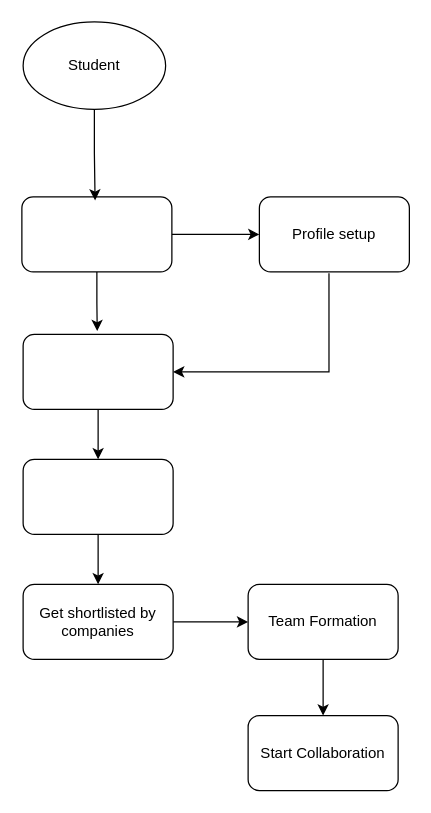
Some shapes in this 431 by 813 pixel diagram are drawn without their labels. The centre of each missing label's shape, as x and y in pixels:
"Apply Projects" goes at [97,496].
"Browse Projects" goes at [97,371].
"Student Registration" goes at [96,234].
